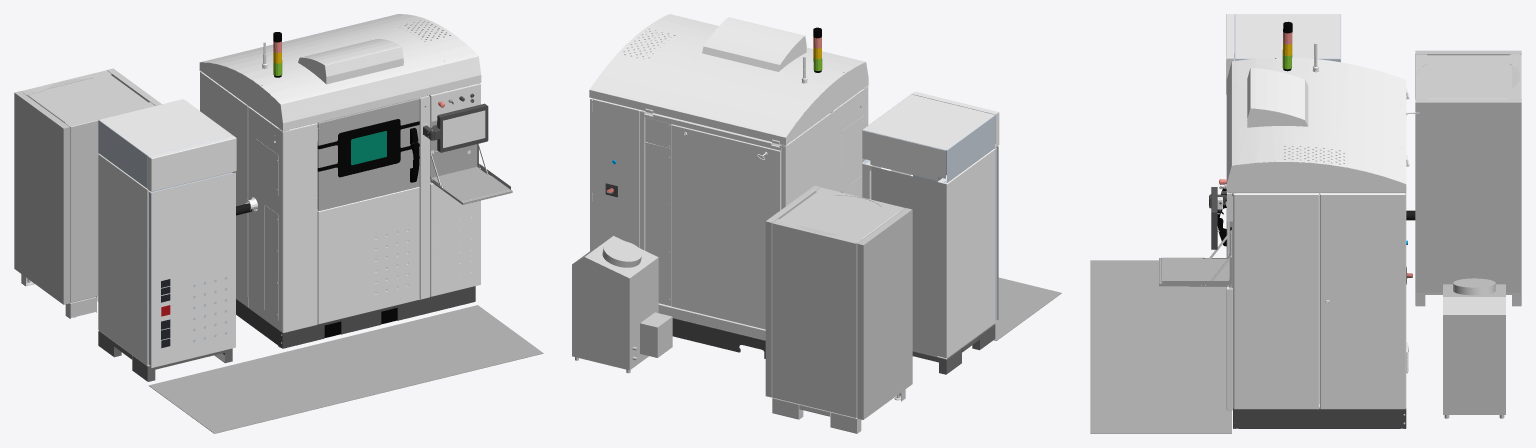
File: pbf.glb
The picture shows the model from 3 angles, left to right: view 1: azimuth 30°, elevation 25°; view 2: azimuth 150°, elevation 25°; view 3: azimuth 270°, elevation 25°; orthographic projection. The views are drawn at different scales.
Parts seen in each view (by area): view 1: GameObject_mesh_mesh_13, GameObject_mesh_mesh_1, GameObject_mesh_mesh_10, GameObject_mesh_mesh_14, GameObject_mesh_mesh_12; view 2: GameObject_mesh_mesh_13, GameObject_mesh_mesh_1; view 3: GameObject_mesh_mesh_1, GameObject_mesh_mesh_13, GameObject_mesh_mesh_12, GameObject_mesh_mesh_14.
Boxes of the visible parts, x1,y1,x2,y2 form: GameObject_mesh_mesh_13: (14, 68, 543, 433); GameObject_mesh_mesh_1: (199, 14, 481, 348); GameObject_mesh_mesh_10: (317, 98, 419, 210); GameObject_mesh_mesh_14: (429, 103, 488, 152); GameObject_mesh_mesh_12: (430, 164, 512, 204); GameObject_mesh_mesh_13: (572, 91, 1061, 433); GameObject_mesh_mesh_1: (589, 14, 868, 358); GameObject_mesh_mesh_1: (1217, 21, 1419, 428); GameObject_mesh_mesh_13: (1090, 14, 1521, 433); GameObject_mesh_mesh_12: (1159, 257, 1231, 286); GameObject_mesh_mesh_14: (1209, 187, 1221, 249).
Bounding box in the file's own units: 2.61 × 2.23 × 2.74.
